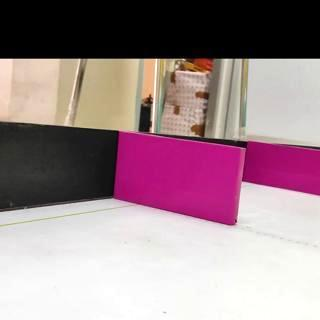xparking: (120, 147, 237, 215), (256, 149, 320, 196)
